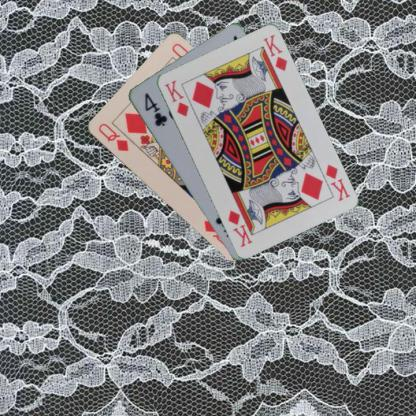4c: (142, 90, 168, 128)
Kd: (322, 161, 352, 202), (162, 77, 190, 118)
Qd: (95, 120, 130, 153)
